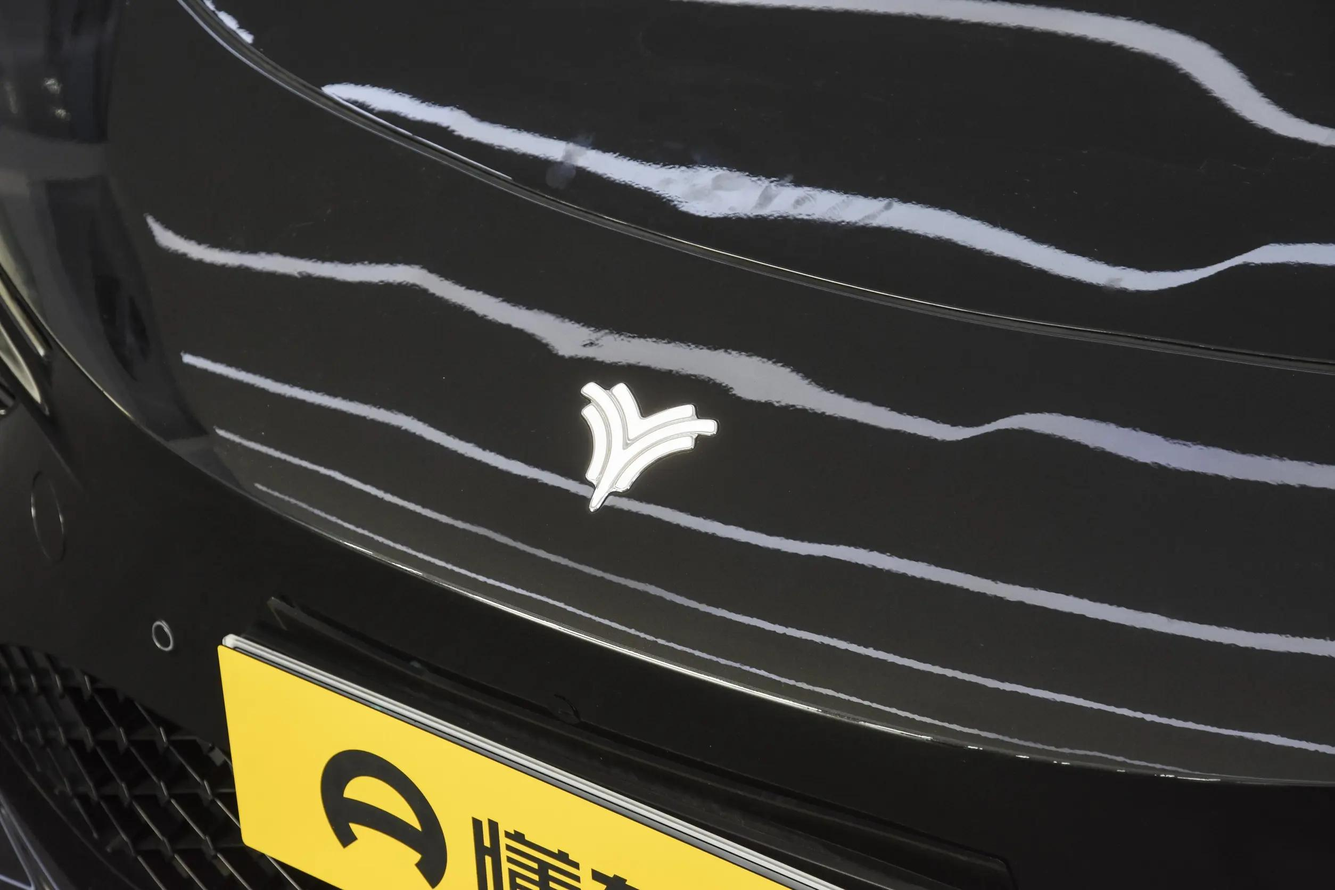NETA: (580, 381, 719, 514)
